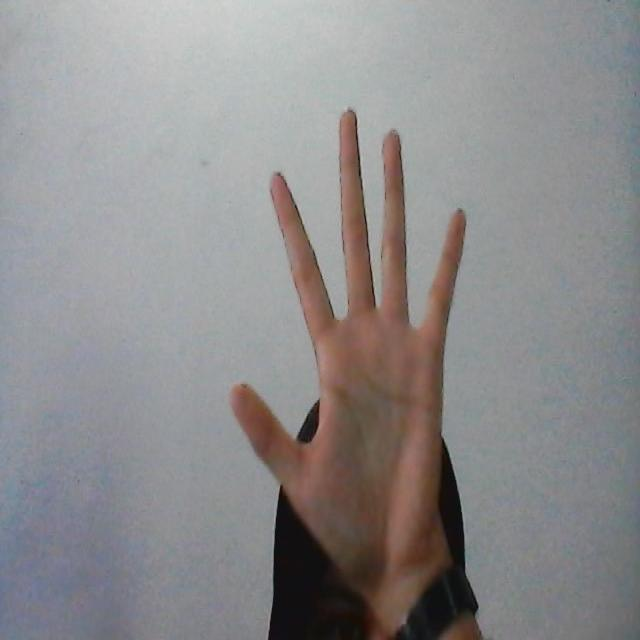hand: (226, 106, 469, 578)
